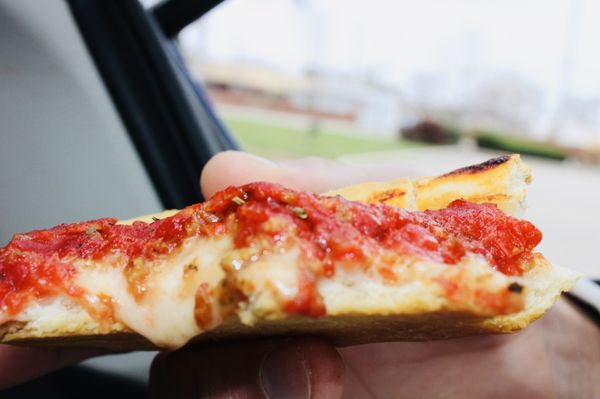sandwich: (0, 151, 591, 354)
